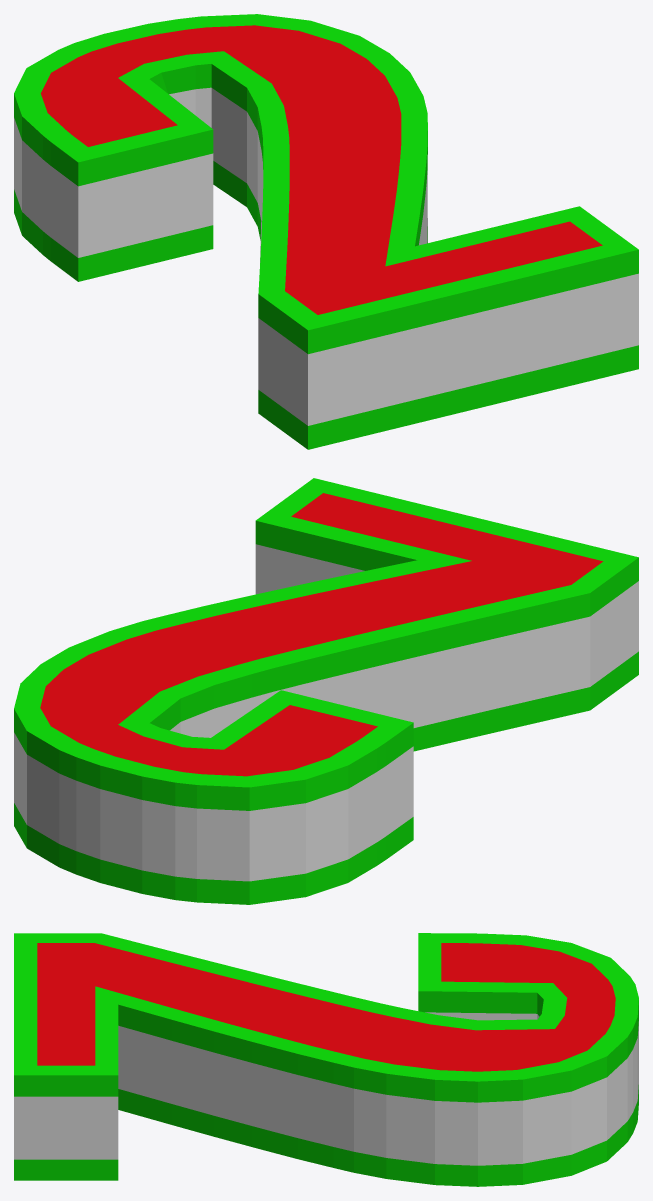
3 renders of one model, top to bottom at view 1: azimuth 30°, elevation 25°; view 2: azimuth 150°, elevation 25°; view 3: azimuth 270°, elevation 25°, orthographic. The views are drawn at different scales.
Visible parts, largest first — view 1: 2; view 2: 2; view 3: 2.
Part boxes in pixels (box(x1,y1,x2,y2)): 2: box(14, 14, 638, 449); 2: box(14, 478, 638, 904); 2: box(14, 933, 638, 1186).
Bounding box in the file's own units: 0.3025 × 0.1 × 0.538.
